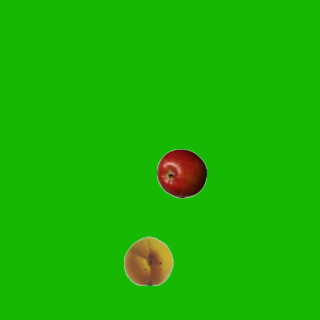Apple Braeburn: (156, 148, 206, 198)
Peach 2: (123, 235, 173, 285)
